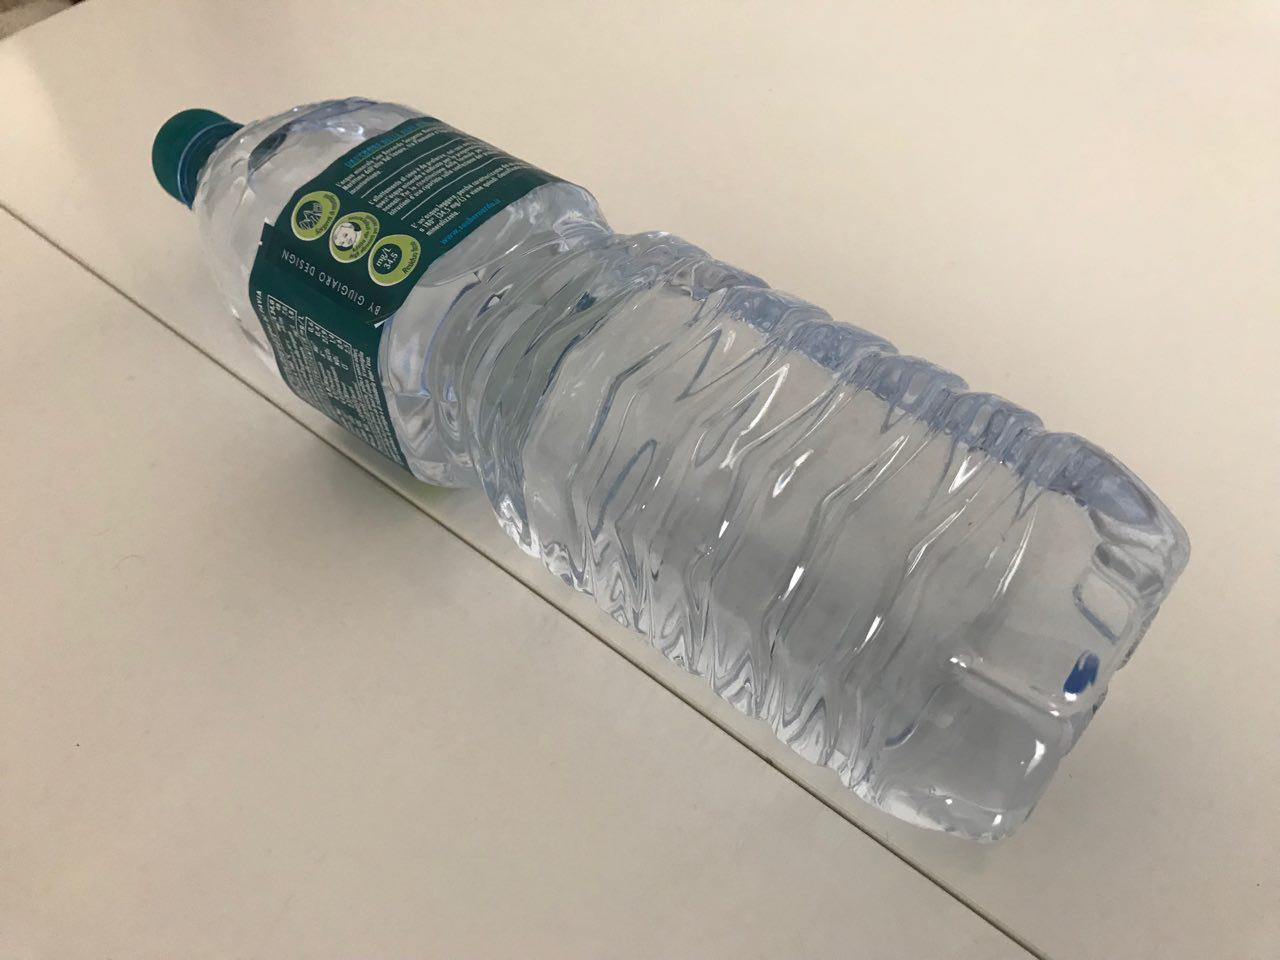san_bernardo: (148, 97, 1192, 847)
